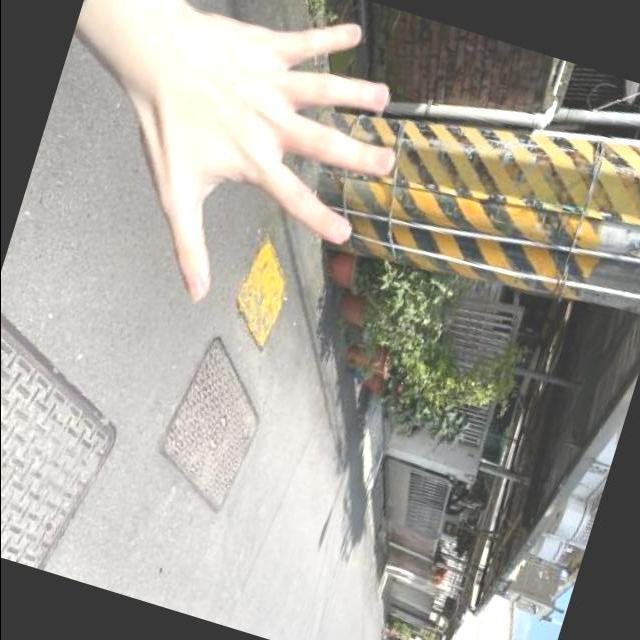hand: (43, 0, 444, 362)
